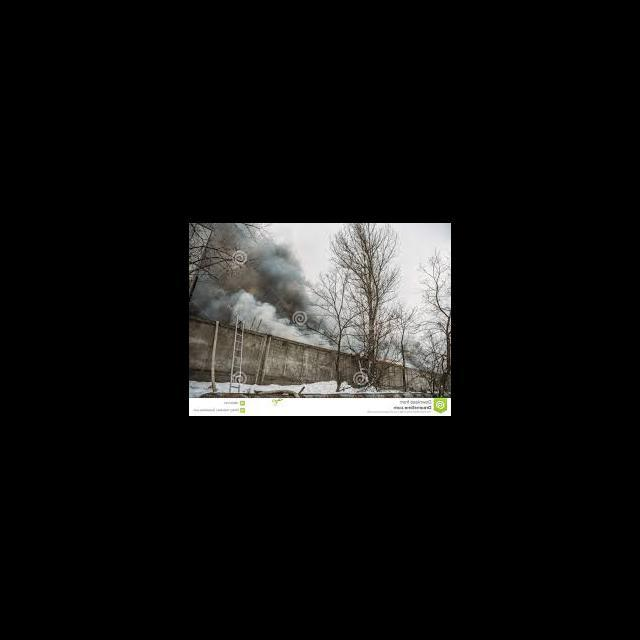Smoke: (191, 224, 336, 342), (201, 290, 337, 351), (377, 344, 417, 368)
